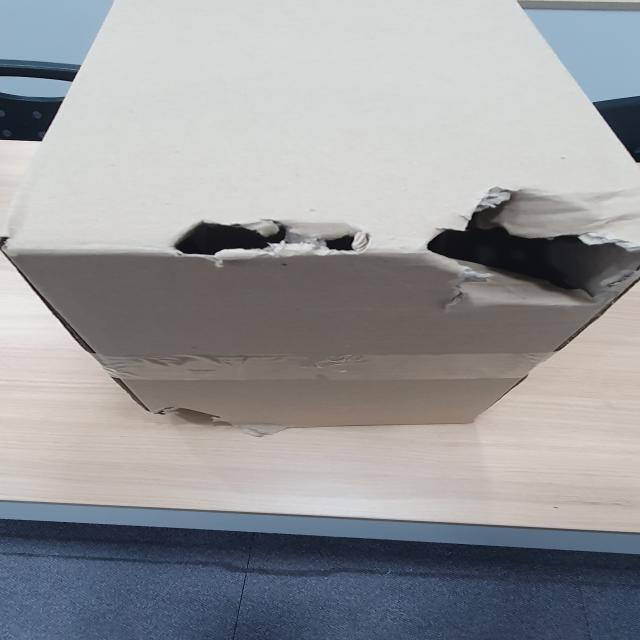hole: (415, 188, 639, 302), (156, 216, 385, 268), (151, 401, 225, 429)
